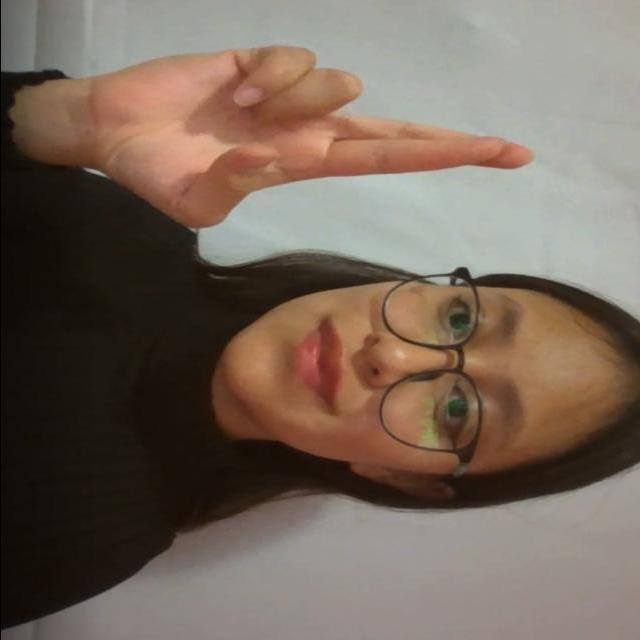R: (115, 34, 558, 233)
